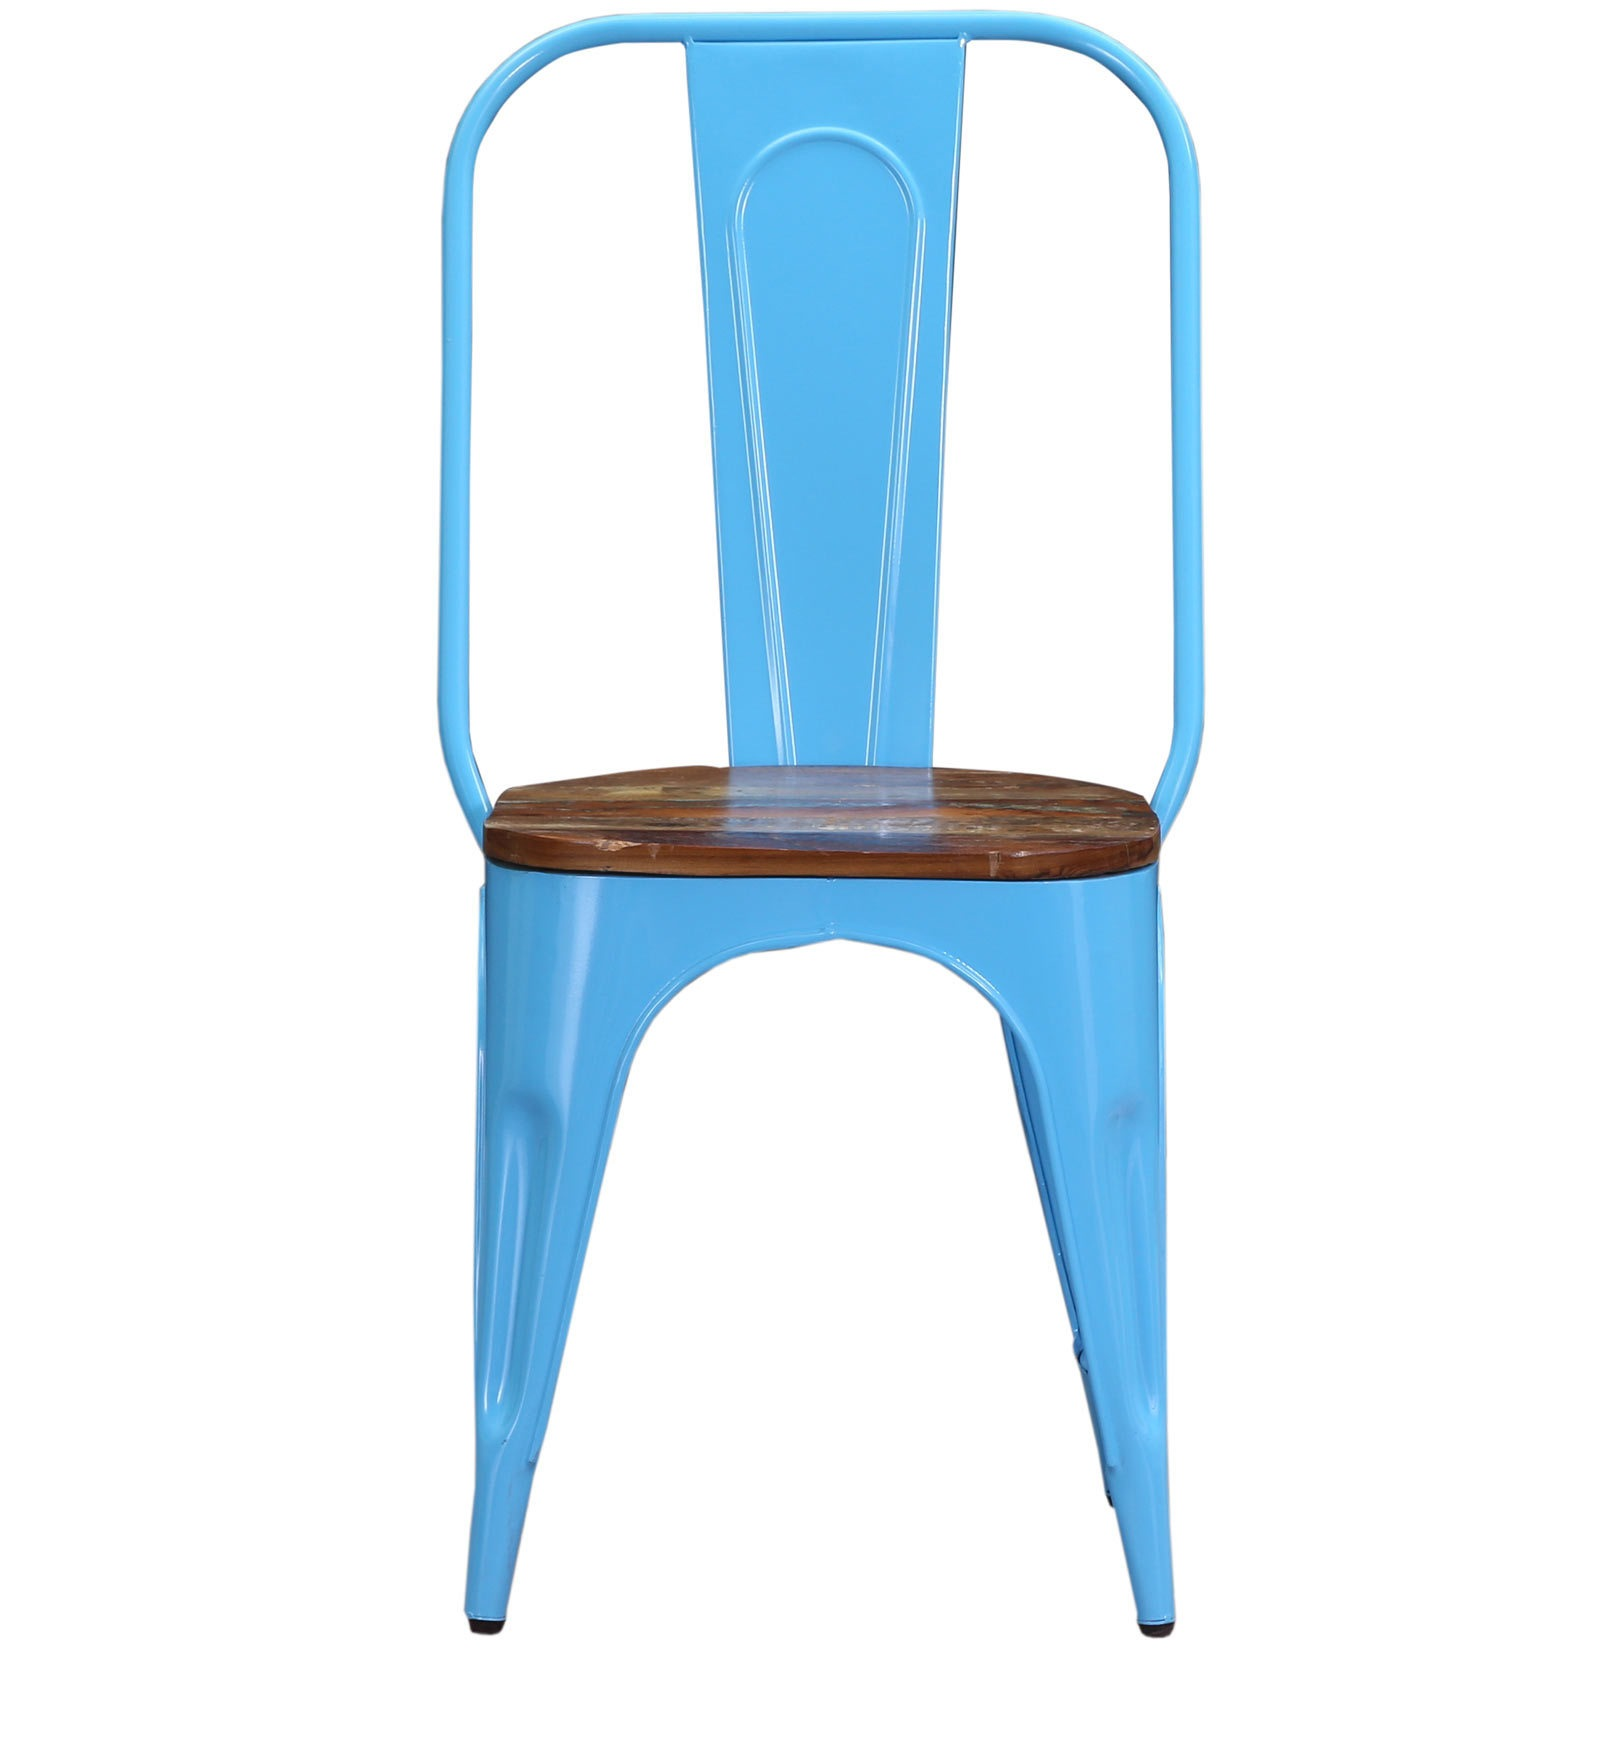Kumtor Metal Chair in Sky Blue Color with Wooden Seat by Bohemiana: (379, 5, 1248, 1702)
